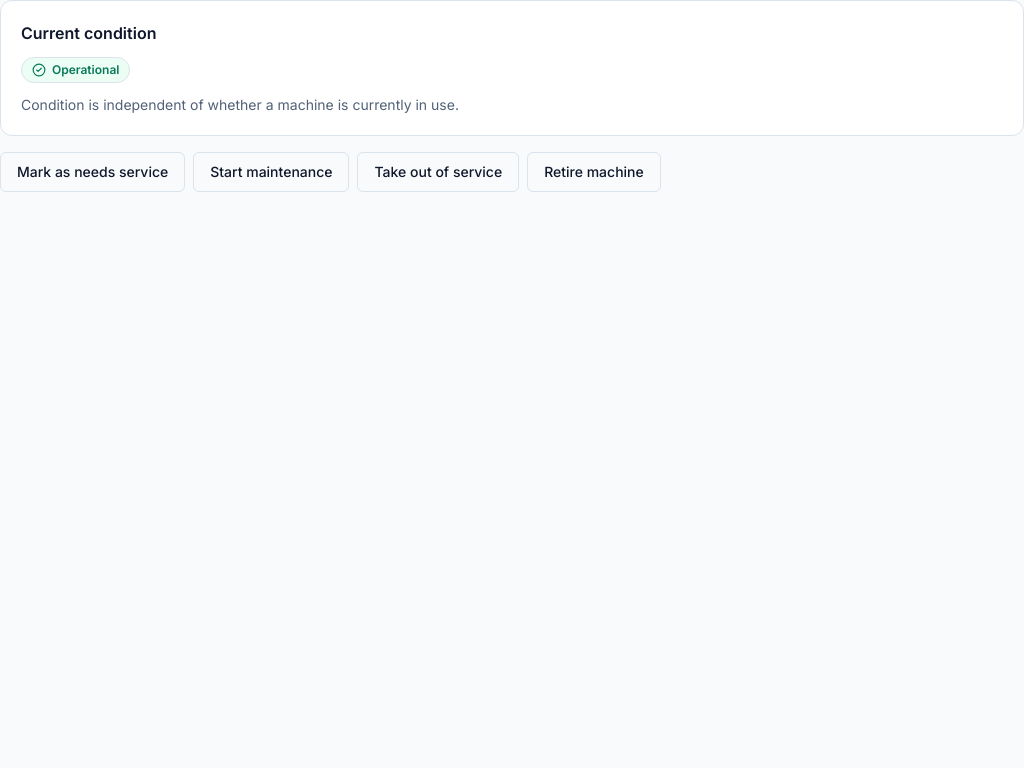
it: MachineConditionPanel › offers the explicit force path only after an open-session response
The image size is (1024, 768).
Click the button "Take out of service" at x=438, y=172, box left=358, top=152, right=519, bottom=192
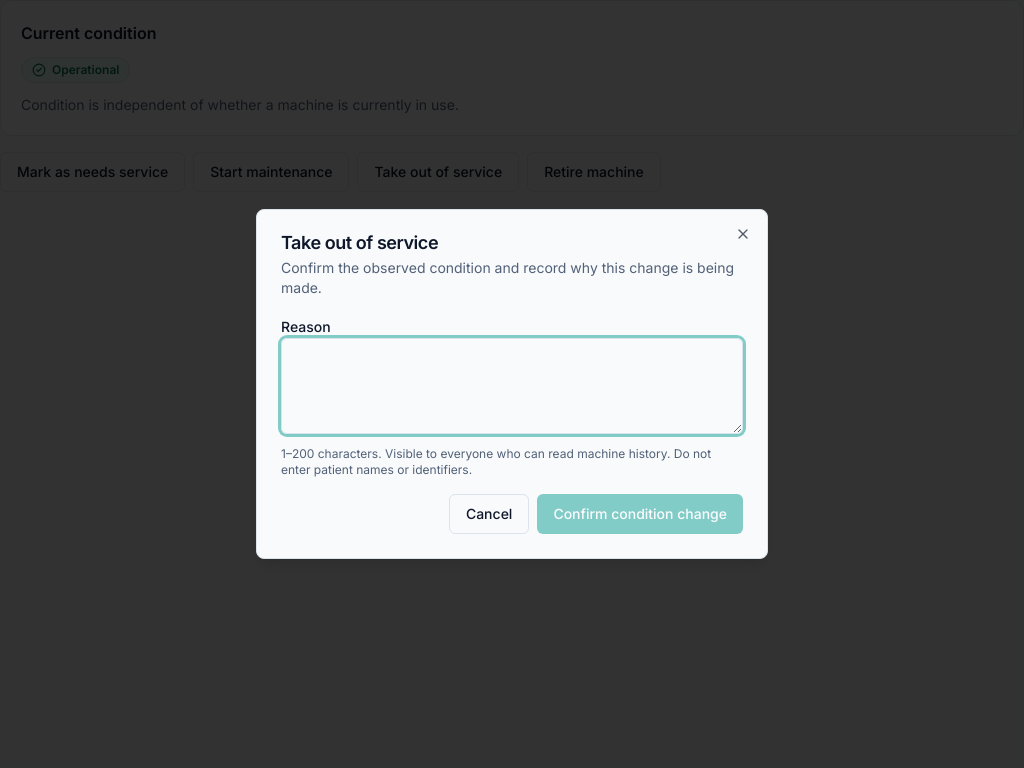
Type "Unsafe" into the text box labelled "Reason" at x=512, y=386, box left=281, top=338, right=743, bottom=434
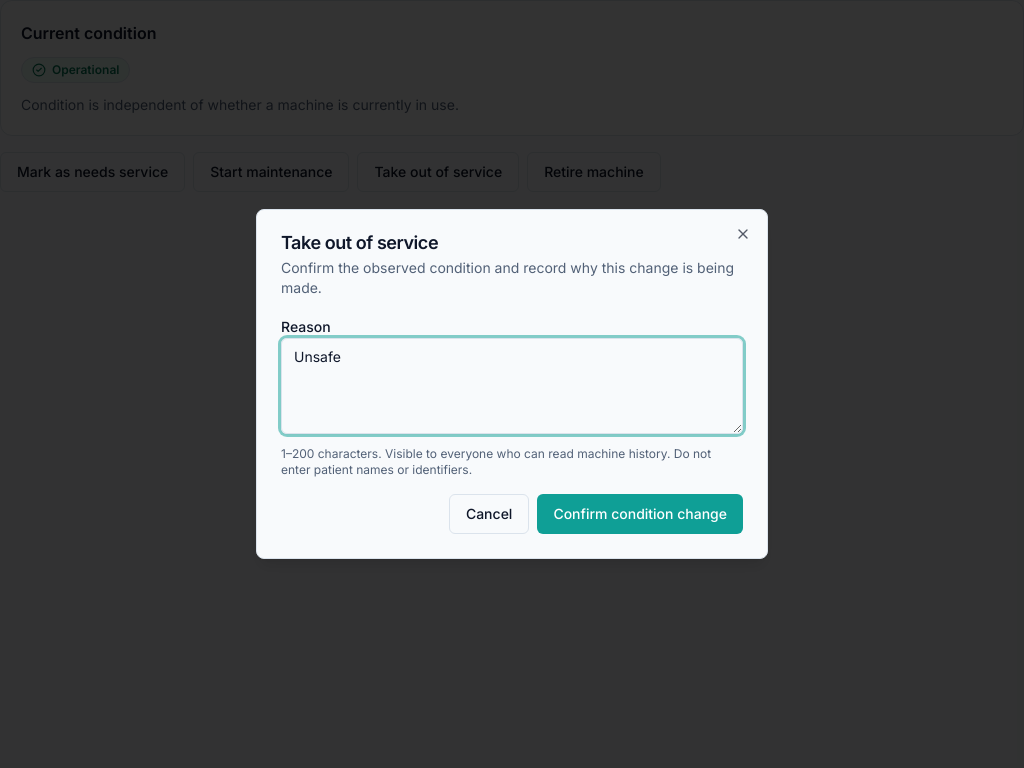
Click the button "Confirm condition change" at x=640, y=514, box left=537, top=494, right=743, bottom=534
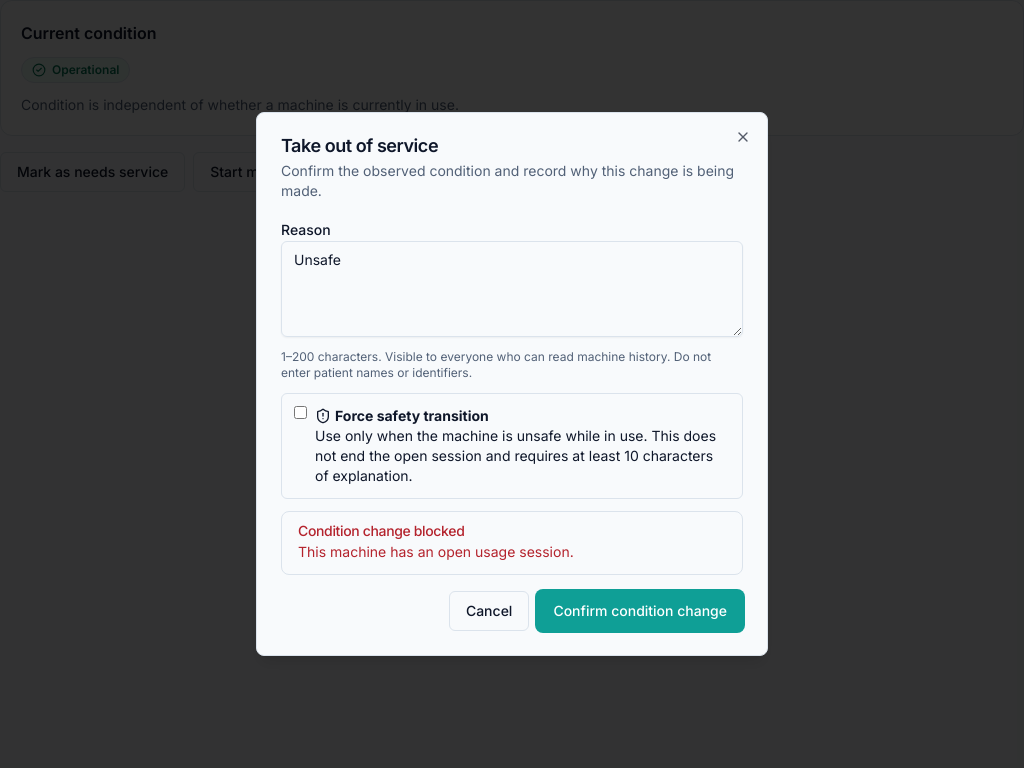
expect the text "Force safety transition" is shown: met, box left=315, top=407, right=489, bottom=424
Click the checkbox at x=300, y=412, box left=294, top=406, right=307, bottom=419
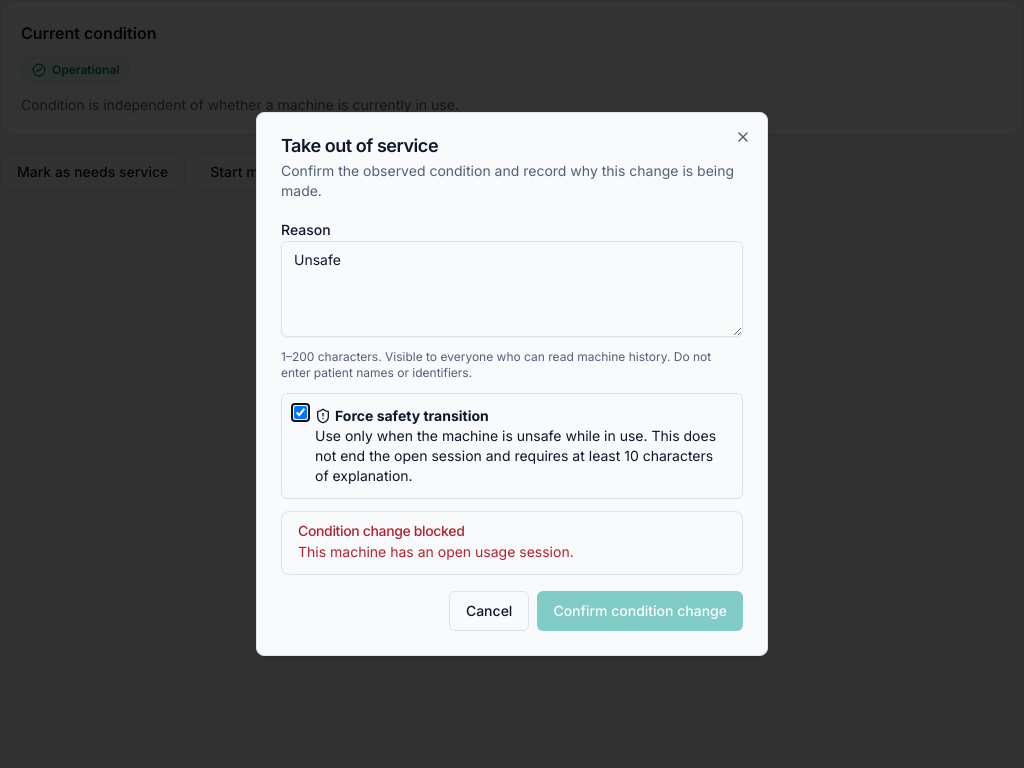
expect the button "Confirm condition change" is disabled: met, box left=537, top=591, right=743, bottom=631
Type " condition" into the text box labelled "Reason" at x=512, y=289, box left=281, top=241, right=743, bottom=337
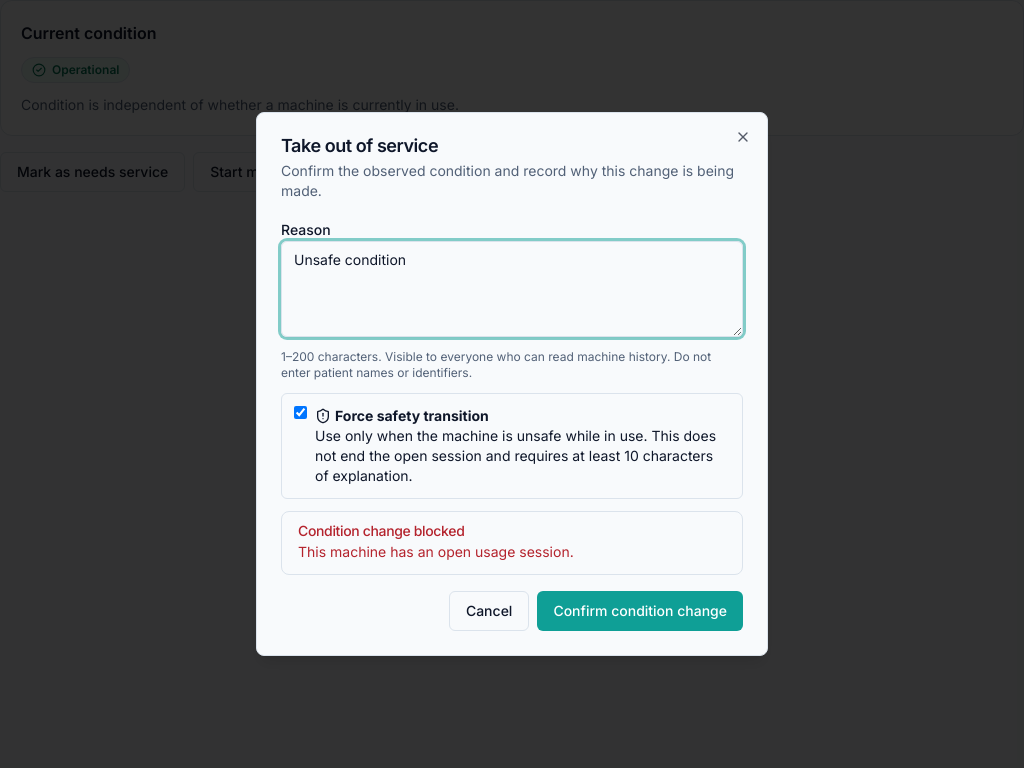
expect the button "Confirm condition change" is enabled: met, box left=537, top=591, right=743, bottom=631
